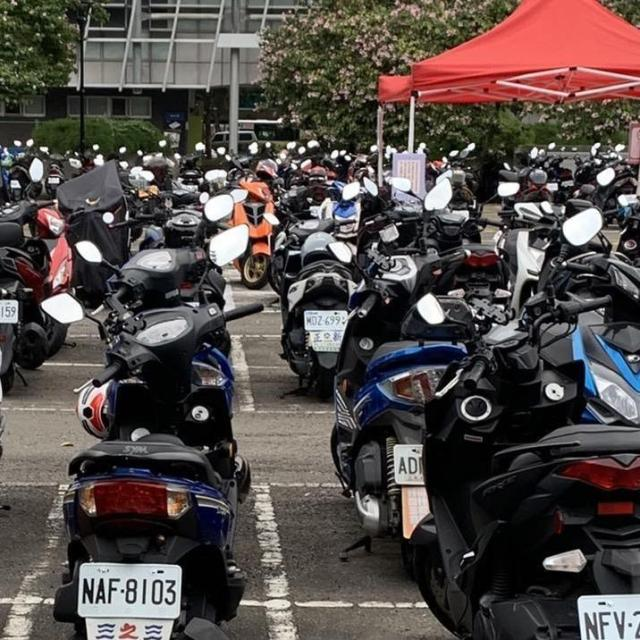W: (73, 555, 186, 626), (571, 582, 640, 640), (298, 304, 355, 337), (393, 445, 423, 484), (0, 299, 18, 323)
